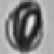correct: (4, 0, 45, 52)
